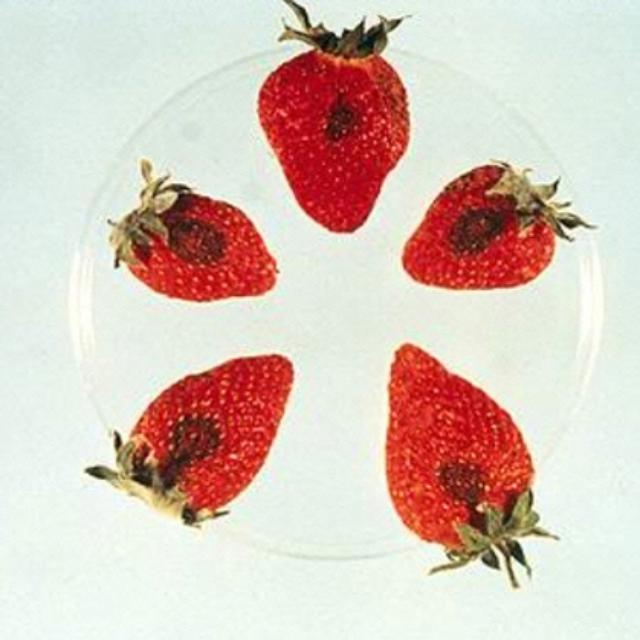Anthracnose Fruit Rot: (157, 408, 227, 484), (164, 212, 237, 269), (444, 201, 513, 260), (430, 451, 494, 512), (314, 88, 370, 146)
